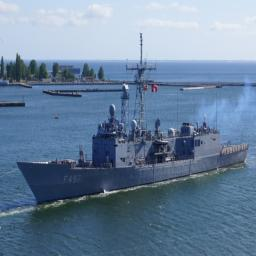Fragata: (15, 26, 252, 211)
